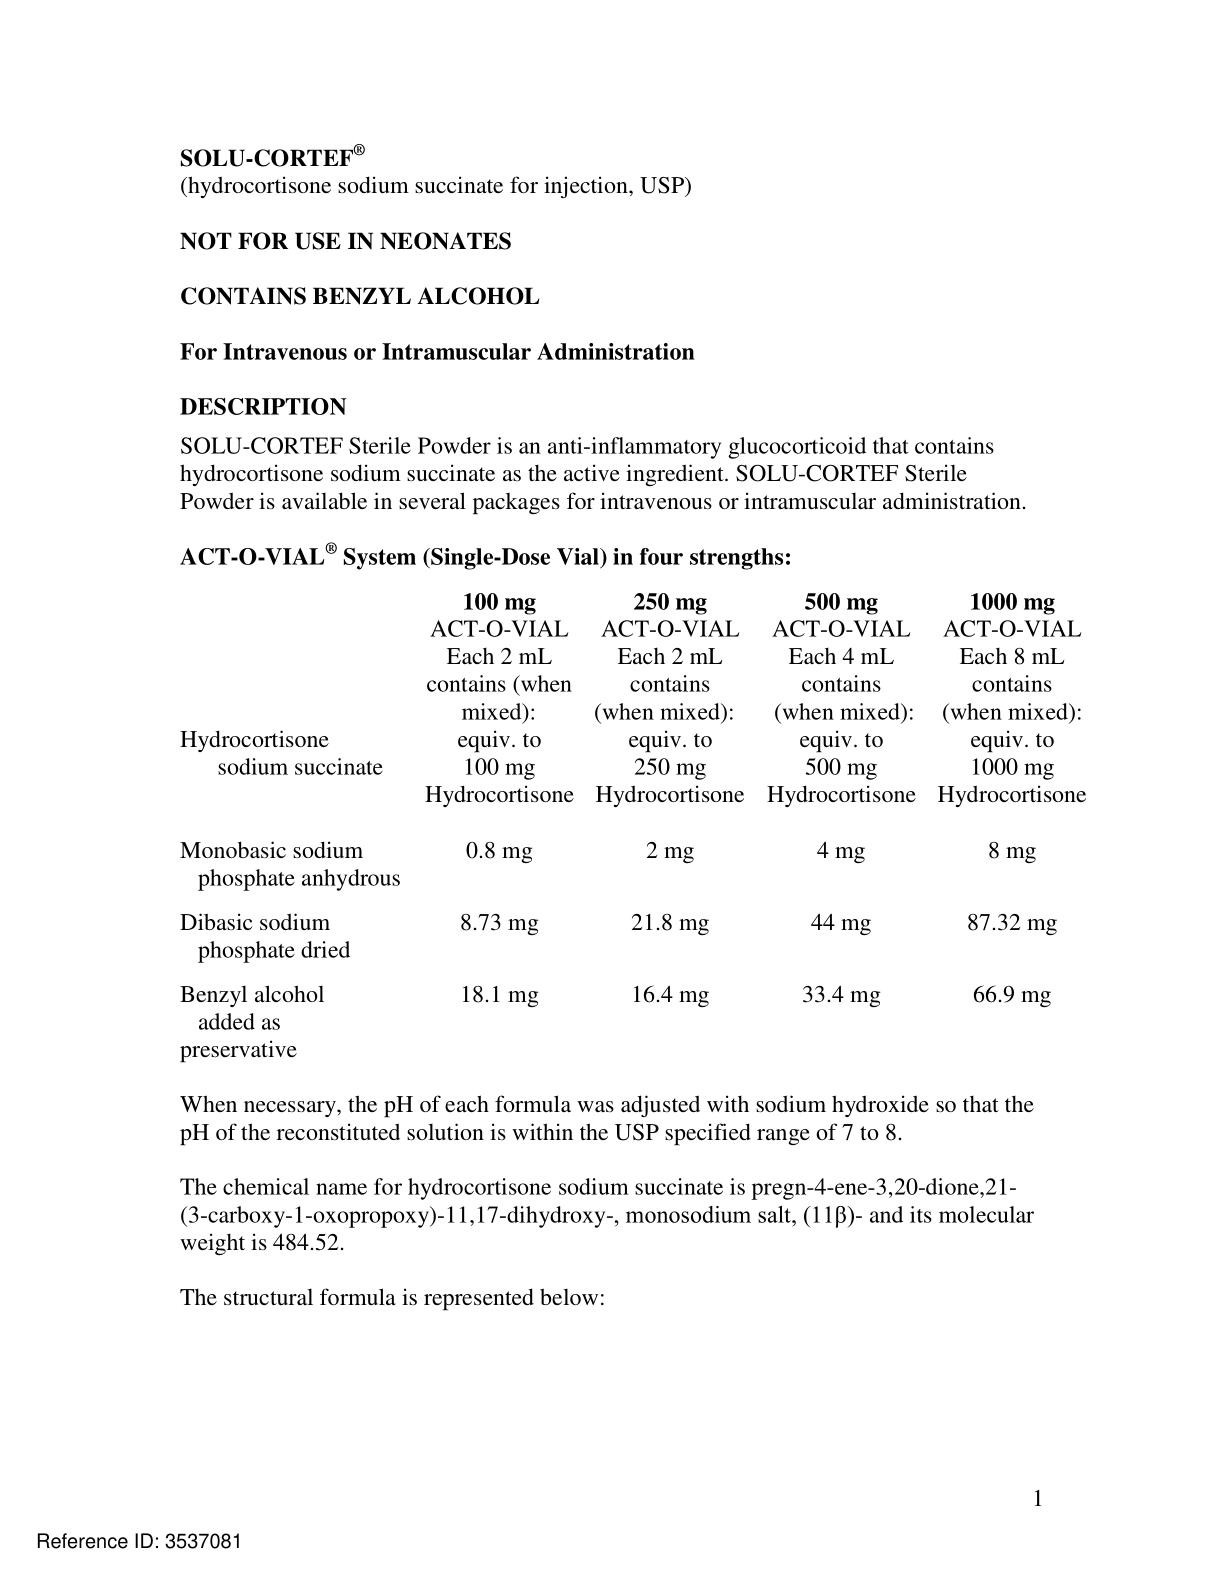nolines: (175, 588, 1086, 1067)
